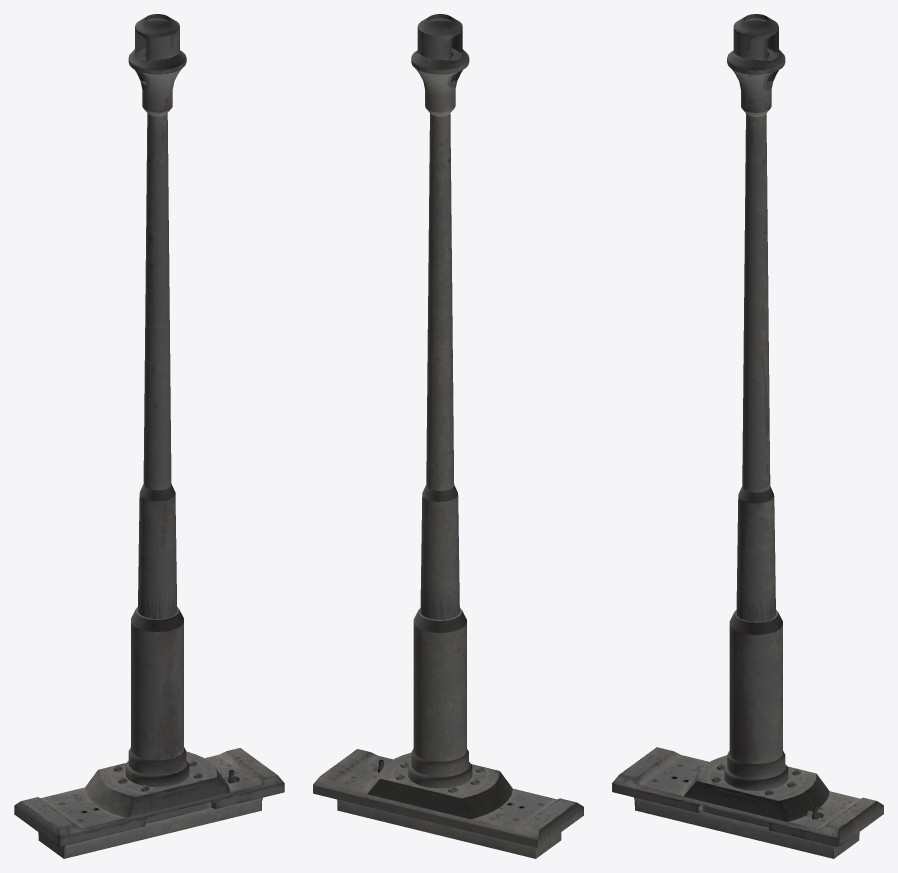
The model's file is Gun_04.glb.
The picture shows the model from 3 angles, left to right: view 1: azimuth 30°, elevation 25°; view 2: azimuth 150°, elevation 25°; view 3: azimuth 330°, elevation 25°; orthographic projection.
Visible parts, largest first — view 1: set_0_group_0; view 2: set_0_group_0; view 3: set_0_group_0.
Boxes of the visible parts, box(x1,y1,x2,y2) form: set_0_group_0: box(14, 14, 284, 858); set_0_group_0: box(313, 14, 583, 858); set_0_group_0: box(612, 14, 883, 858).
Size of the model in its own units: 1.6 by 5.44 by 0.5606.
Materials: 1 (1 with a texture image).
